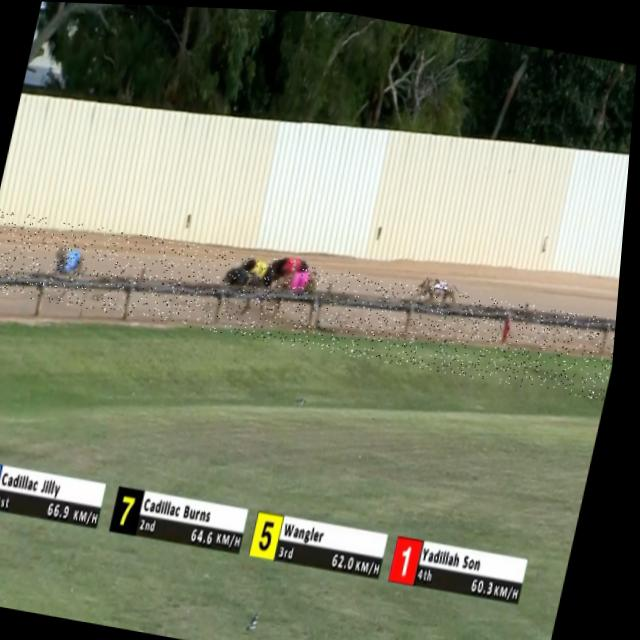dog_eight: (290, 270, 319, 300)
dog_five: (256, 258, 274, 280)
dog_four: (64, 250, 86, 280)
dog_one: (286, 253, 309, 279)
dog_seven: (241, 268, 266, 296)
dog_two: (434, 275, 456, 302)
rail: (0, 274, 621, 327)
